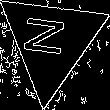N_E: (26, 19, 77, 65)
